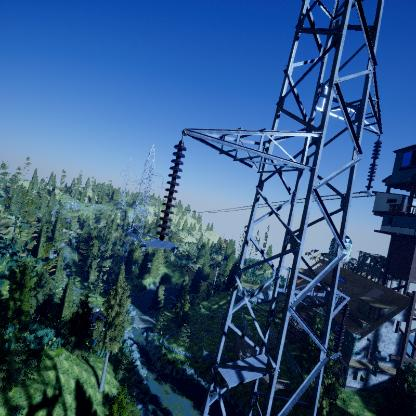insulator: (155, 143, 189, 241)
